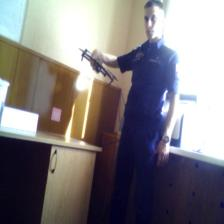drone: (76, 41, 118, 90)
